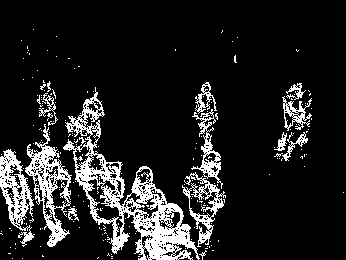person: (24, 140, 80, 249), (79, 149, 130, 255), (181, 150, 227, 259), (136, 201, 200, 260), (121, 164, 167, 236), (1, 147, 33, 248), (269, 82, 305, 156), (283, 90, 314, 160), (62, 115, 96, 178), (193, 80, 218, 152), (81, 84, 105, 151), (37, 76, 58, 147)
